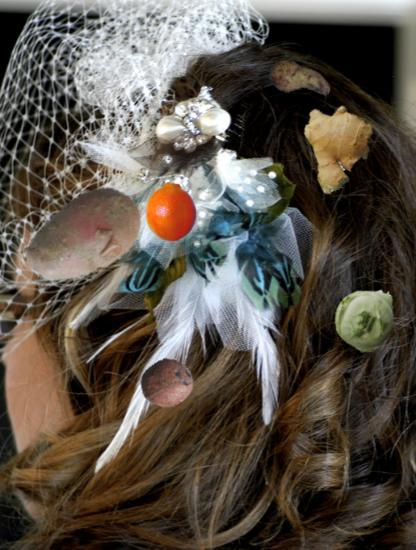Cocos: (140, 356, 195, 411)
Ginger: (288, 104, 380, 196)
Kohlrabi: (332, 283, 401, 352)
Pear: (268, 50, 332, 114)
Potato: (20, 174, 149, 303)
Tangelo: (142, 182, 201, 241)
